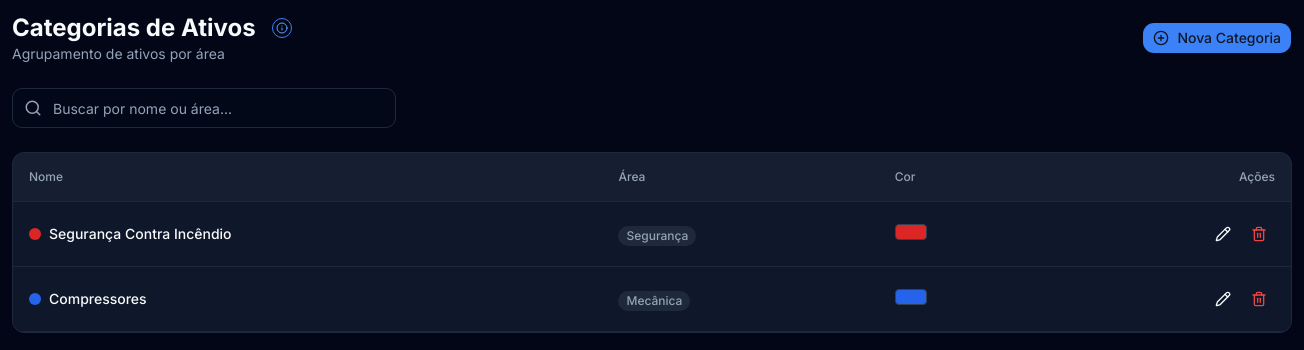
Test: AtivosCategoriasPage › filtra pela busca
The width and height of the screenshot is (1304, 350).
Expected: the link "Segurança Contra Incêndio" is shown, x1=29 y1=225 x2=232 y2=242
Type "incêndio" into the field with placeholder "Buscar por nome ou área..." at point(204, 108), box x1=12 y1=88 x2=396 y2=128
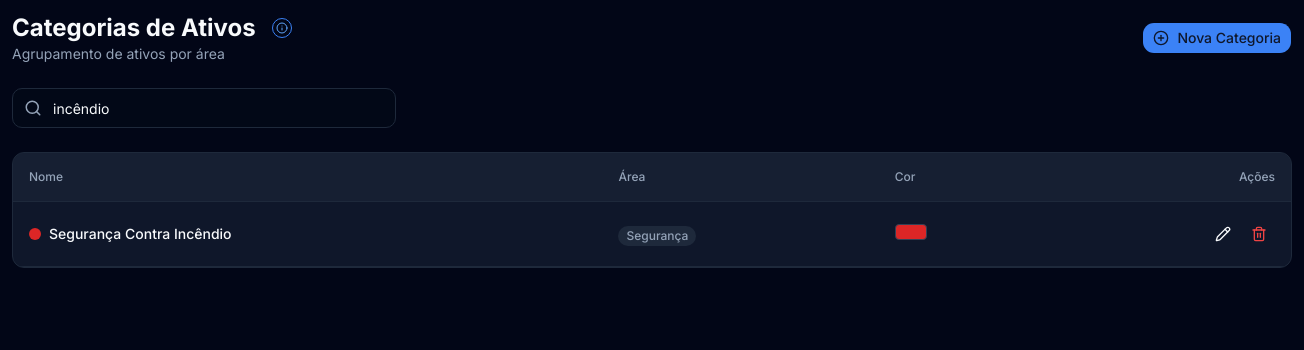
Expected: the link "Segurança Contra Incêndio" is shown, x1=29 y1=225 x2=232 y2=242
Expected: the link "Compressores" is gone
Replace the text in the field with placeholder "Buscar por nome ou área..." with "zzz-inexistente" at point(204, 108), box x1=12 y1=88 x2=396 y2=128
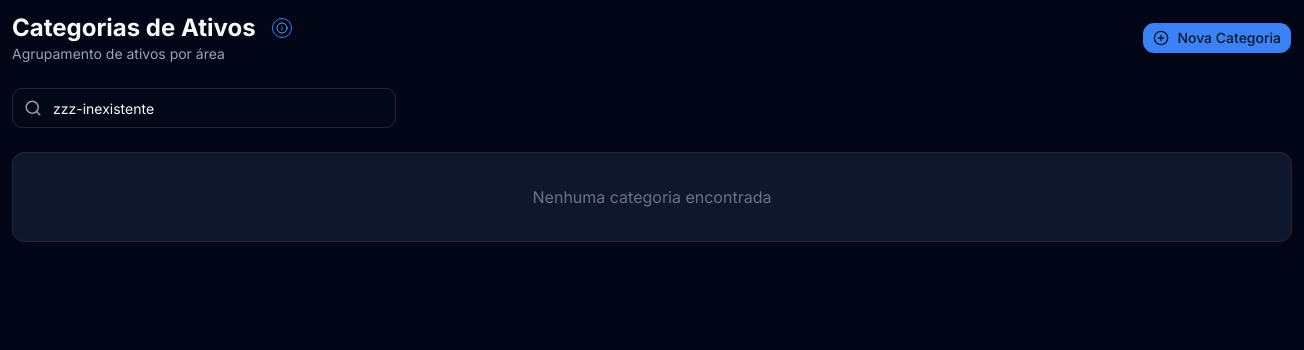
Expected: the text "Nenhuma categoria encontrada" is shown, x1=532 y1=187 x2=771 y2=207
